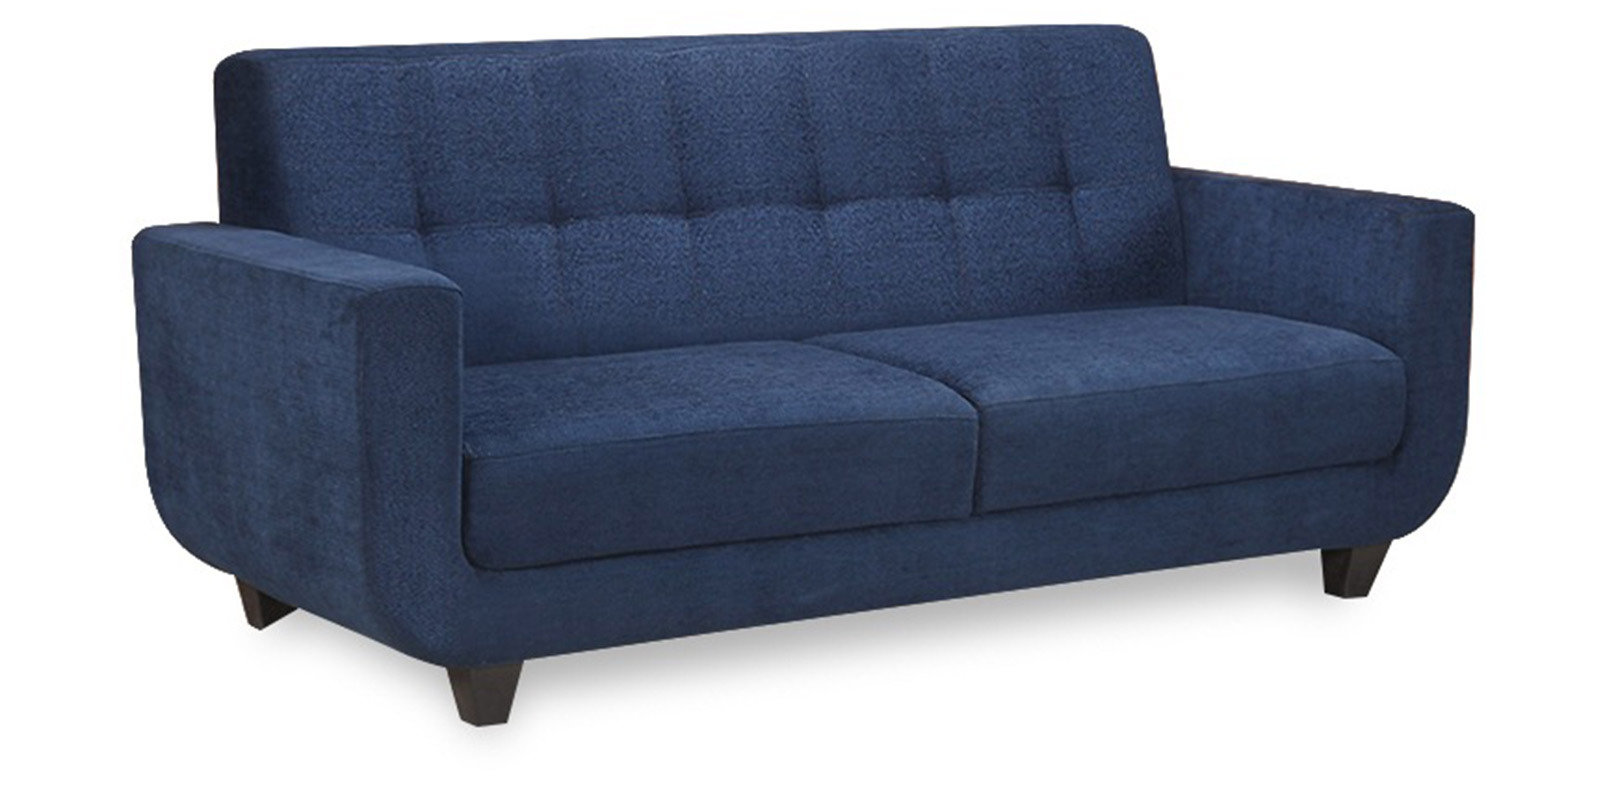Berlin Three Seater Sofa in Blue Colour by Crystal Furnitech: (128, 45, 1495, 653)
